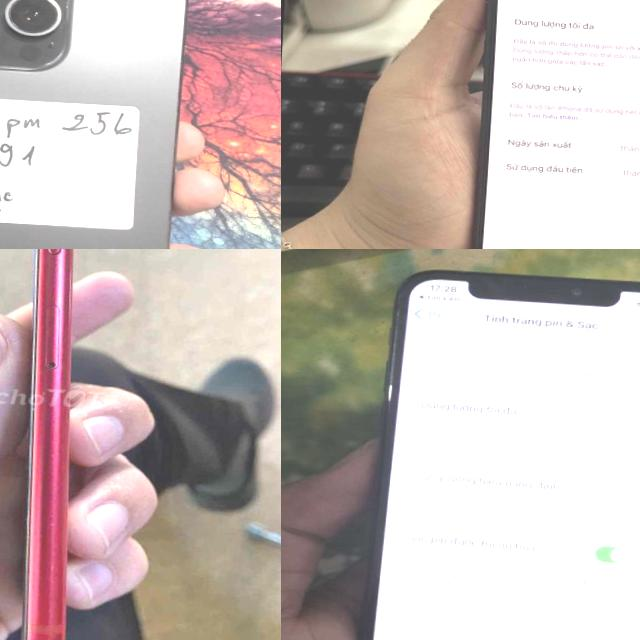gen_15: (0, 0, 204, 249)
gen_16: (472, 0, 640, 249)
gen_7_8: (0, 249, 99, 640)
gen_x_xs: (359, 271, 640, 640)
